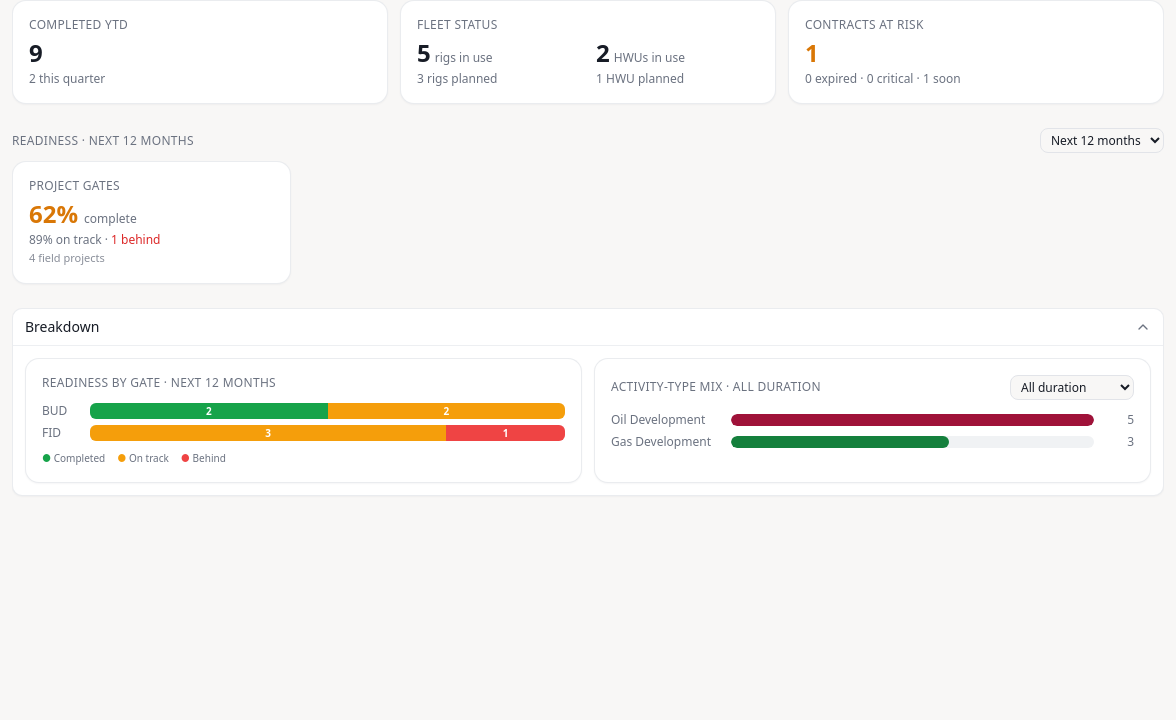
Test: ProjectDashboard › readiness horizon select refetches with the chosen window and relabels
The width and height of the screenshot is (1176, 720).
Check: the text "Fleet status" is shown, box x1=417 y1=16 x2=498 y2=33
Check: the heading "Readiness · next 12 months" is shown, box x1=12 y1=132 x2=194 y2=148
Select "Next 6 months" in the dropdown named "Readiness horizon" at x=1102, y=140, box x1=1040 y1=128 x2=1164 y2=153
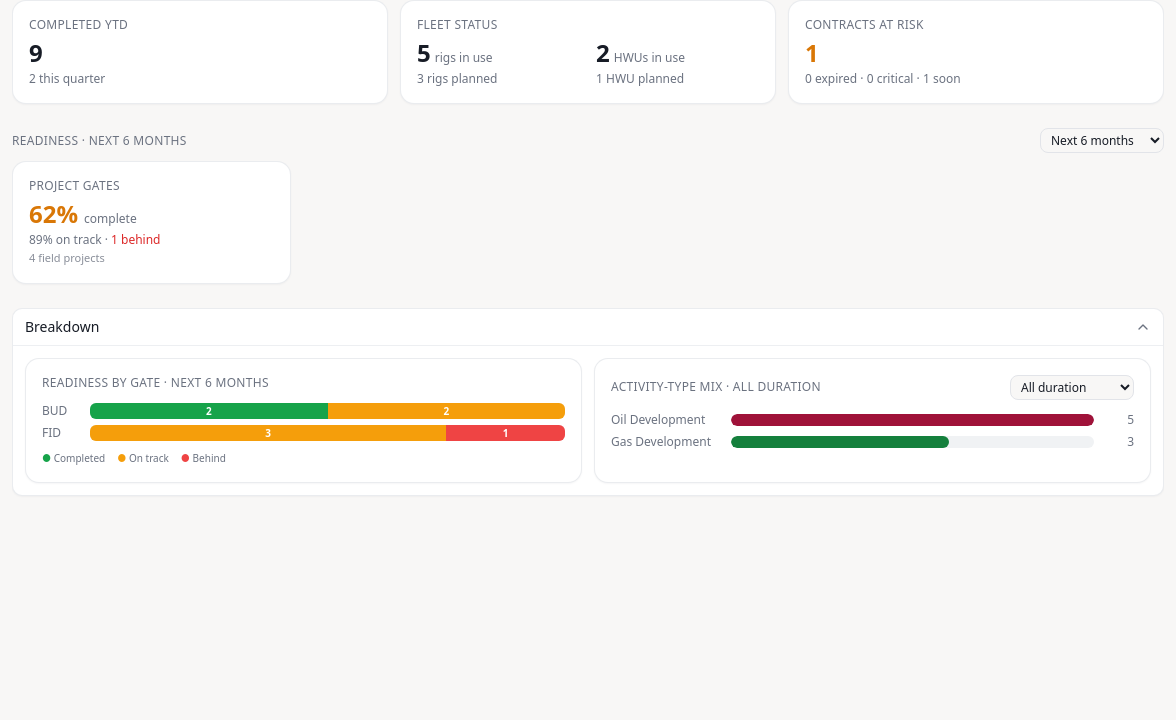
Check: the heading "Readiness · next 6 months" is shown, box x1=12 y1=132 x2=187 y2=148
Select "All duration" in the dropdown named "Readiness horizon" at x=1102, y=140, box x1=1040 y1=128 x2=1164 y2=153
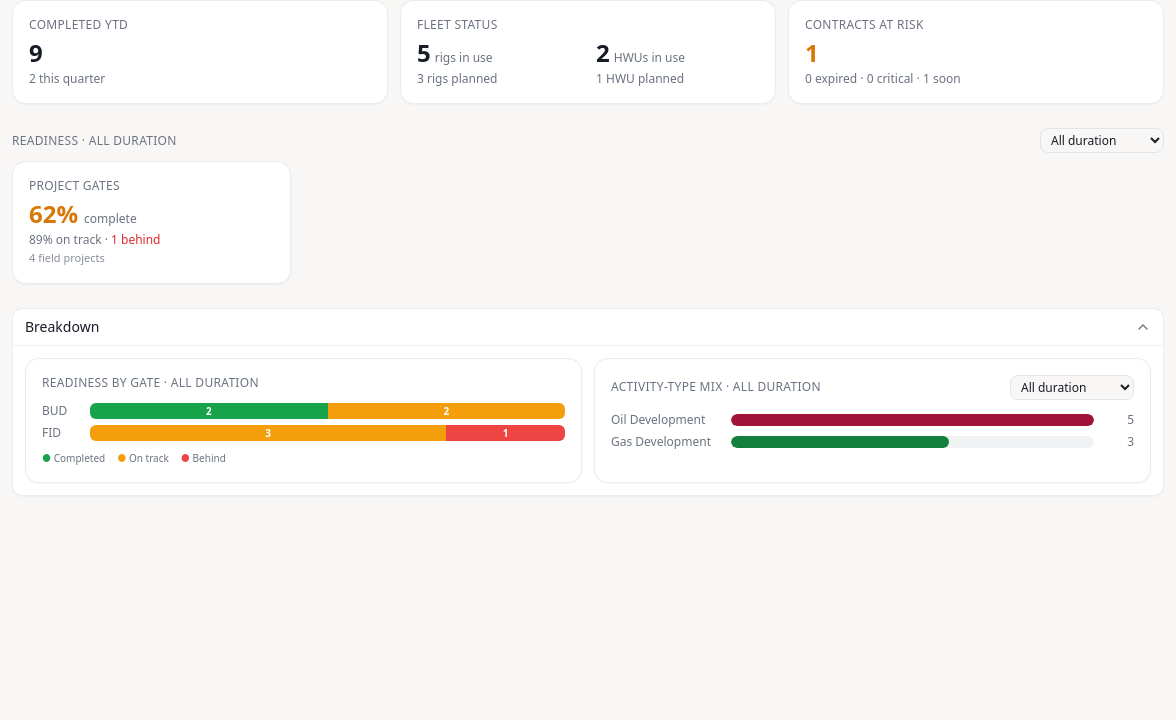
Check: the heading "Readiness · all duration" is shown, box x1=12 y1=132 x2=177 y2=148
